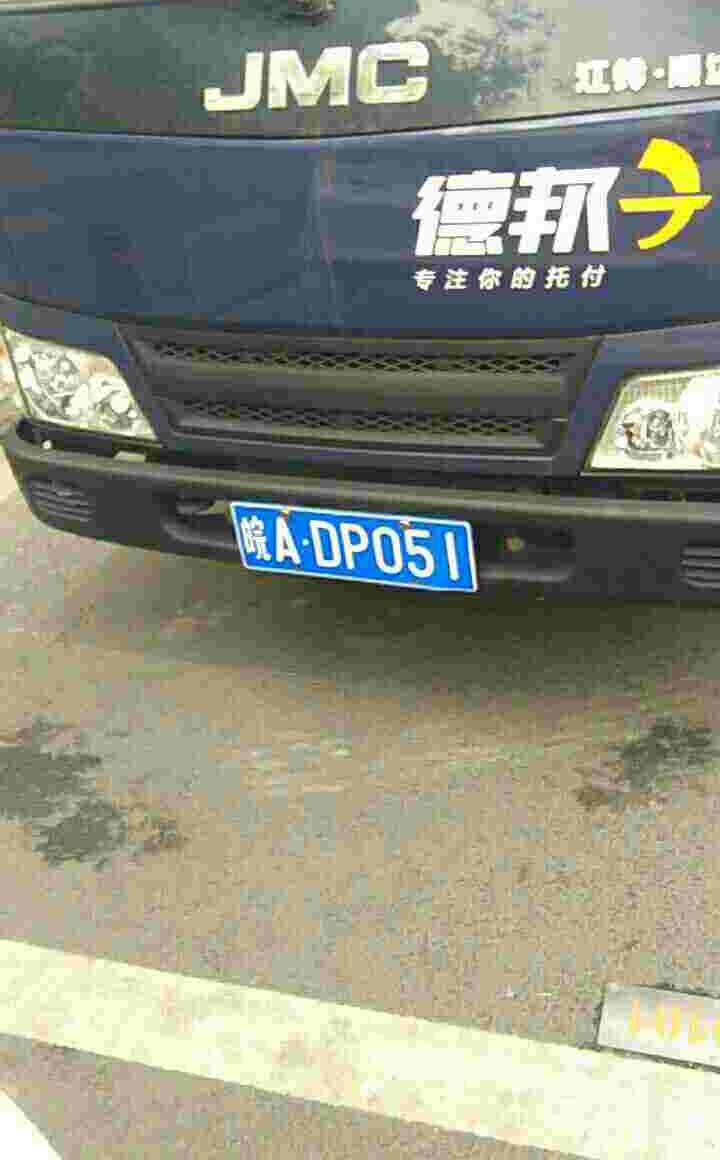license_plate: (241, 503, 477, 596)
